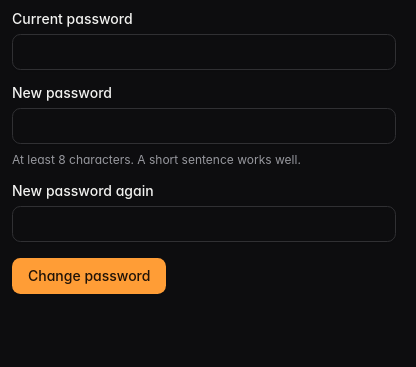
it: the change password form › empties every field on success and says other browsers were signed out
In the password field labelled "Current password": (204, 52) [12, 34, 396, 70], type "old password"
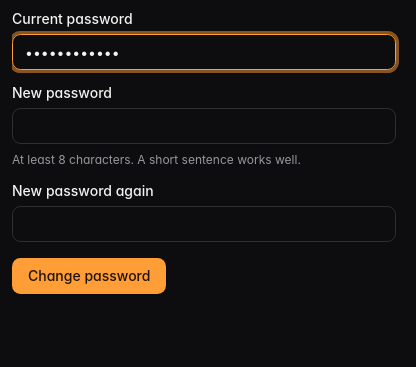
In the password field labelled "New password": (204, 126) [12, 108, 396, 144], type "a new sentence"
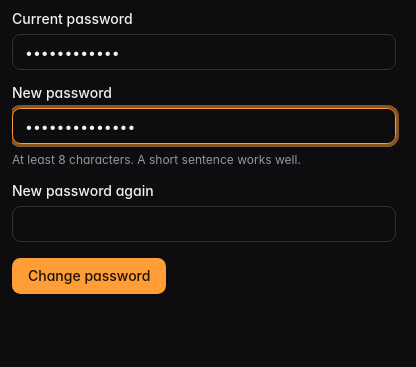
In the password field labelled "New password again": (204, 224) [12, 206, 396, 242], type "a new sentence"
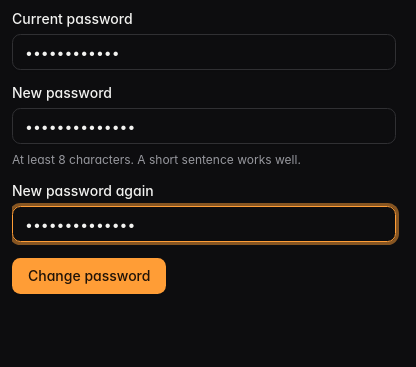
Click the button "Change password": (89, 276) [12, 258, 166, 294]
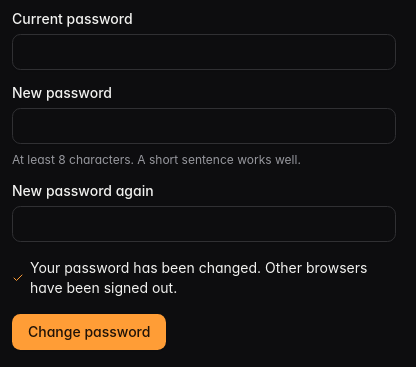
Expected: the message reads "Your password has been changed. Other browsers have been signed out.", [30, 259, 367, 296]
Expected: the password field labelled "Current password" is empty, [12, 34, 396, 70]
Expected: the password field labelled "New password" is empty, [12, 108, 396, 144]
